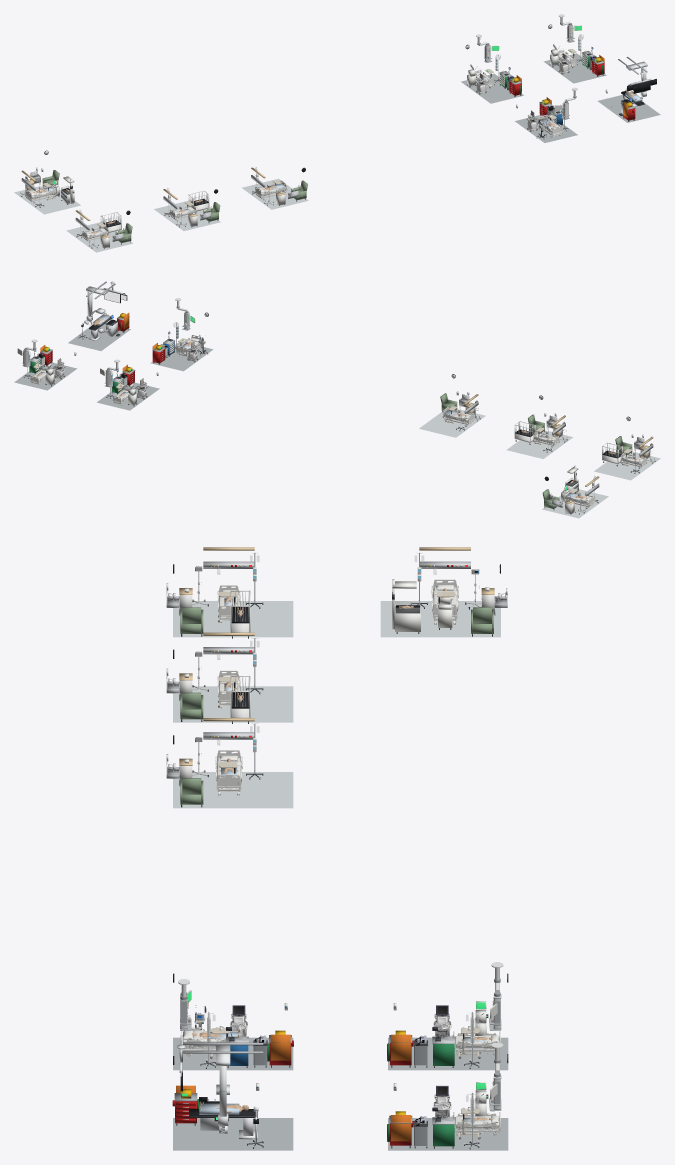
The model's file is 19_n2_alta_fidelidad.glb.
3 renders of one model, top to bottom at view 1: azimuth 30°, elevation 25°; view 2: azimuth 150°, elevation 25°; view 3: azimuth 270°, elevation 25°, orthographic. The views are drawn at different scales.
Parts seen in each view (by area): view 1: piso · Hospitalización · ginecoobstetricia, piso · Hemodinamia simulada · simulador endovascular, piso · Hospitalización · pediatría 2, piso · Hospitalización · pediatría 1, piso · UCI pediátrica 2, piso · UCI pediátrica 1, piso · Hospitalización · adultos, piso · UCI adultos; view 2: piso · Hospitalización · adultos, piso · Hospitalización · pediatría 1, piso · Hospitalización · pediatría 2, piso · Hemodinamia simulada · simulador endovascular, piso · UCI adultos, piso · Hospitalización · ginecoobstetricia, piso · UCI pediátrica 2, piso · UCI pediátrica 1, arco_c_techo, cuna_hospitalaria; view 3: piso · Hospitalización · adultos, piso · Hemodinamia simulada · simulador endovascular, piso · Hospitalización · pediatría 2, piso · Hospitalización · pediatría 1, piso · Hospitalización · ginecoobstetricia, piso · UCI pediátrica 2, piso · UCI pediátrica 1, arco_c_techo, piso · UCI adultos, cuna_radiante, A_v19_cama_hosp_adulto.
Part boxes in pixels (bbox=[...]): piso · Hospitalización · ginecoobstetricia: bbox=[14, 185, 80, 214]; piso · Hemodinamia simulada · simulador endovascular: bbox=[597, 95, 660, 122]; piso · Hospitalización · pediatría 2: bbox=[154, 200, 220, 230]; piso · Hospitalización · pediatría 1: bbox=[66, 221, 132, 252]; piso · UCI pediátrica 2: bbox=[543, 53, 606, 83]; piso · UCI pediátrica 1: bbox=[461, 73, 523, 103]; piso · Hospitalización · adultos: bbox=[241, 178, 308, 209]; piso · UCI adultos: bbox=[515, 115, 577, 142]; piso · Hospitalización · adultos: bbox=[419, 409, 485, 437]; piso · Hospitalización · pediatría 1: bbox=[594, 451, 660, 480]; piso · Hospitalización · pediatría 2: bbox=[506, 430, 572, 458]; piso · Hemodinamia simulada · simulador endovascular: bbox=[68, 323, 130, 350]; piso · UCI adultos: bbox=[150, 342, 213, 371]; piso · Hospitalización · ginecoobstetricia: bbox=[542, 489, 608, 518]; piso · UCI pediátrica 2: bbox=[14, 362, 77, 390]; piso · UCI pediátrica 1: bbox=[97, 382, 159, 410]; arco_c_techo: bbox=[86, 281, 115, 333]; cuna_hospitalaria: bbox=[514, 421, 535, 444]; piso · Hospitalización · adultos: bbox=[173, 772, 293, 808]; piso · Hemodinamia simulada · simulador endovascular: bbox=[173, 1118, 293, 1150]; piso · Hospitalización · pediatría 2: bbox=[173, 686, 293, 722]; piso · Hospitalización · pediatría 1: bbox=[173, 601, 293, 637]; piso · Hospitalización · ginecoobstetricia: bbox=[380, 601, 500, 637]; piso · UCI pediátrica 2: bbox=[388, 1118, 508, 1150]; piso · UCI pediátrica 1: bbox=[388, 1037, 508, 1070]; arco_c_techo: bbox=[183, 1042, 263, 1134]; piso · UCI adultos: bbox=[173, 1037, 293, 1070]; cuna_radiante: bbox=[392, 579, 420, 633]; A_v19_cama_hosp_adulto: bbox=[215, 750, 242, 795].
Bounding box in the file's own units: 45.45 × 3.4 × 11.93.
64 materials, 18 textured.
